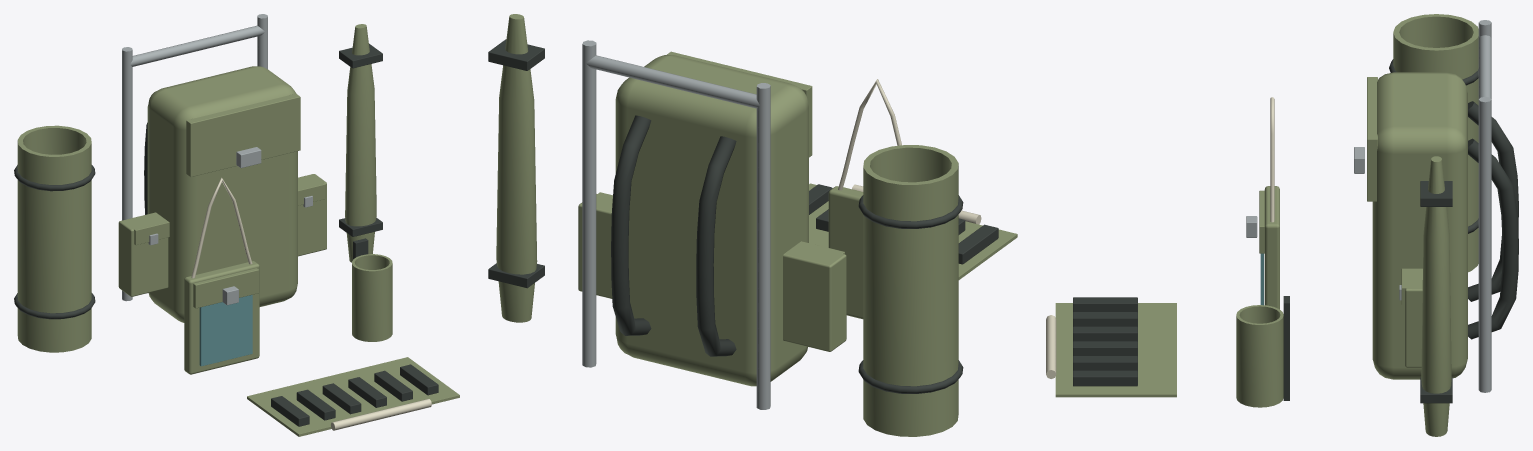
File: backpacks-and-expedition-storage-expedit-ca7e4451-starter-scene__21116.glb
3 views of the same model, side by side, from view 1: azimuth 30°, elevation 25°; view 2: azimuth 150°, elevation 25°; view 3: azimuth 270°, elevation 25° (orthographic). The views are drawn at different scales.
Parts seen in each view (by area): view 1: 000-external-frame-pack/0, 001-sleeping-mat-roll/0, 000-external-frame-pack/flap/canvas, 002-tent-pole-bag/0, 005-tool-roll/0, 000-external-frame-pack/2, 005-tool-roll/1, 003-water-bottle-pouch/0, 004-map-case/3, 004-map-case/0, 004-map-case/flap/canvas, 001-sleeping-mat-roll/1 (+3 smaller); view 2: 000-external-frame-pack/0, 001-sleeping-mat-roll/0, 000-external-frame-pack/2, 002-tent-pole-bag/0, 000-external-frame-pack/3, 004-map-case/0, 001-sleeping-mat-roll/1, 002-tent-pole-bag/2, 005-tool-roll/1, 005-tool-roll/0, 004-map-case/4, 000-external-frame-pack/flap/canvas; view 3: 000-external-frame-pack/0, 002-tent-pole-bag/0, 001-sleeping-mat-roll/0, 005-tool-roll/0, 005-tool-roll/1, 000-external-frame-pack/2, 000-external-frame-pack/3, 003-water-bottle-pouch/0, 004-map-case/0, 000-external-frame-pack/flap/canvas, 002-tent-pole-bag/2, 003-water-bottle-pouch/1 (+2 smaller).
Boxes of the visible parts, x1,y1,x2,y2 form: 000-external-frame-pack/0: (118, 66, 326, 322); 001-sleeping-mat-roll/0: (17, 125, 91, 352); 000-external-frame-pack/flap/canvas: (186, 93, 300, 176); 002-tent-pole-bag/0: (345, 24, 376, 262); 005-tool-roll/0: (247, 357, 459, 436); 000-external-frame-pack/2: (122, 14, 312, 301); 005-tool-roll/1: (271, 364, 438, 426); 003-water-bottle-pouch/0: (352, 254, 392, 341); 004-map-case/3: (199, 295, 252, 366); 004-map-case/0: (184, 261, 259, 374); 004-map-case/flap/canvas: (193, 268, 259, 308); 001-sleeping-mat-roll/1: (14, 165, 95, 319); 000-external-frame-pack/0: (578, 55, 846, 386); 001-sleeping-mat-roll/0: (863, 145, 958, 436); 000-external-frame-pack/2: (582, 40, 770, 409); 002-tent-pole-bag/0: (496, 14, 537, 322); 000-external-frame-pack/3: (611, 115, 736, 356); 004-map-case/0: (828, 186, 863, 319); 001-sleeping-mat-roll/1: (858, 195, 963, 393); 002-tent-pole-bag/2: (488, 39, 544, 288); 005-tool-roll/1: (809, 184, 998, 264); 005-tool-roll/0: (809, 183, 1017, 279); 004-map-case/4: (838, 79, 901, 190); 000-external-frame-pack/flap/canvas: (667, 51, 812, 157); 000-external-frame-pack/0: (1372, 72, 1467, 379); 002-tent-pole-bag/0: (1421, 156, 1451, 436); 001-sleeping-mat-roll/0: (1393, 14, 1478, 272); 005-tool-roll/0: (1055, 303, 1176, 397); 005-tool-roll/1: (1073, 297, 1137, 386); 000-external-frame-pack/2: (1354, 20, 1491, 392); 000-external-frame-pack/3: (1468, 101, 1518, 339); 003-water-bottle-pouch/0: (1236, 305, 1283, 407); 004-map-case/0: (1264, 186, 1279, 309); 000-external-frame-pack/flap/canvas: (1367, 77, 1377, 201); 002-tent-pole-bag/2: (1420, 181, 1452, 403); 003-water-bottle-pouch/1: (1283, 296, 1289, 400).
Size of the model in its own units: 1.11 by 0.74 by 1.09.
